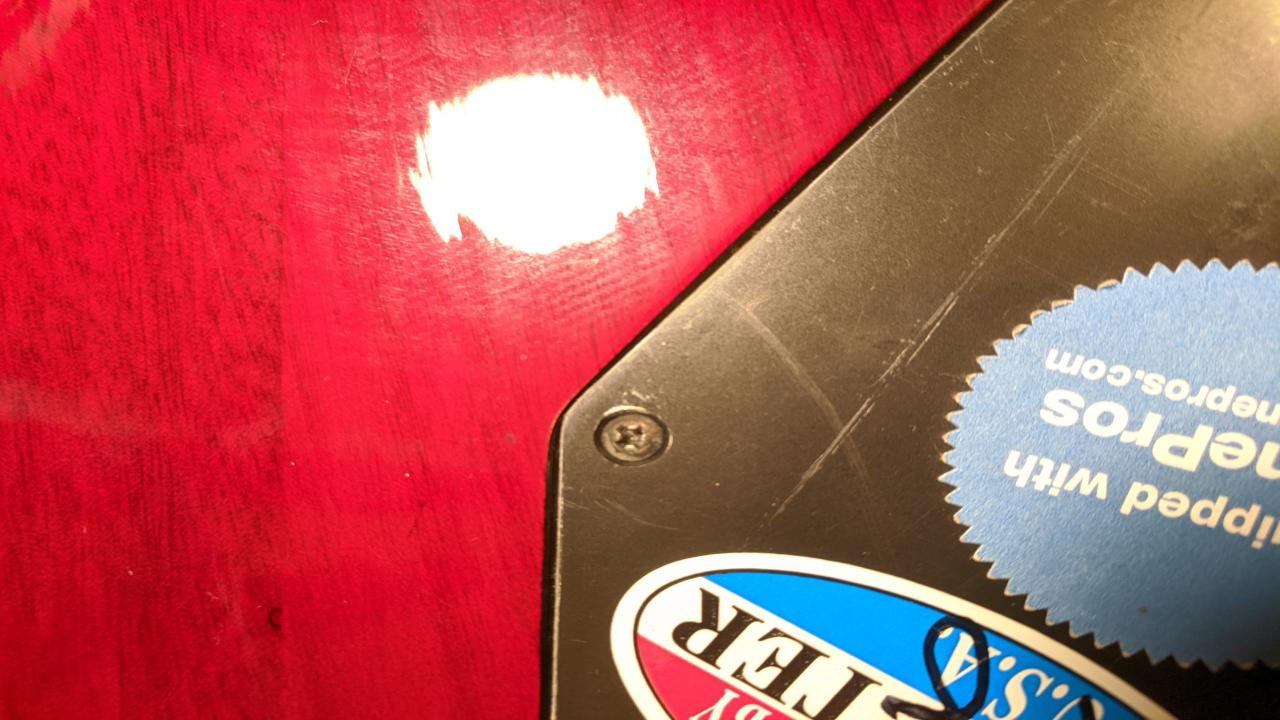CRS: (600, 409, 669, 461)
